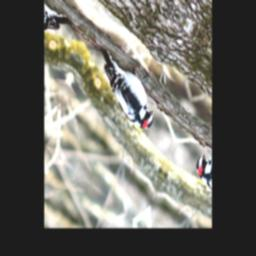Woodpecker: (84, 39, 164, 138)
